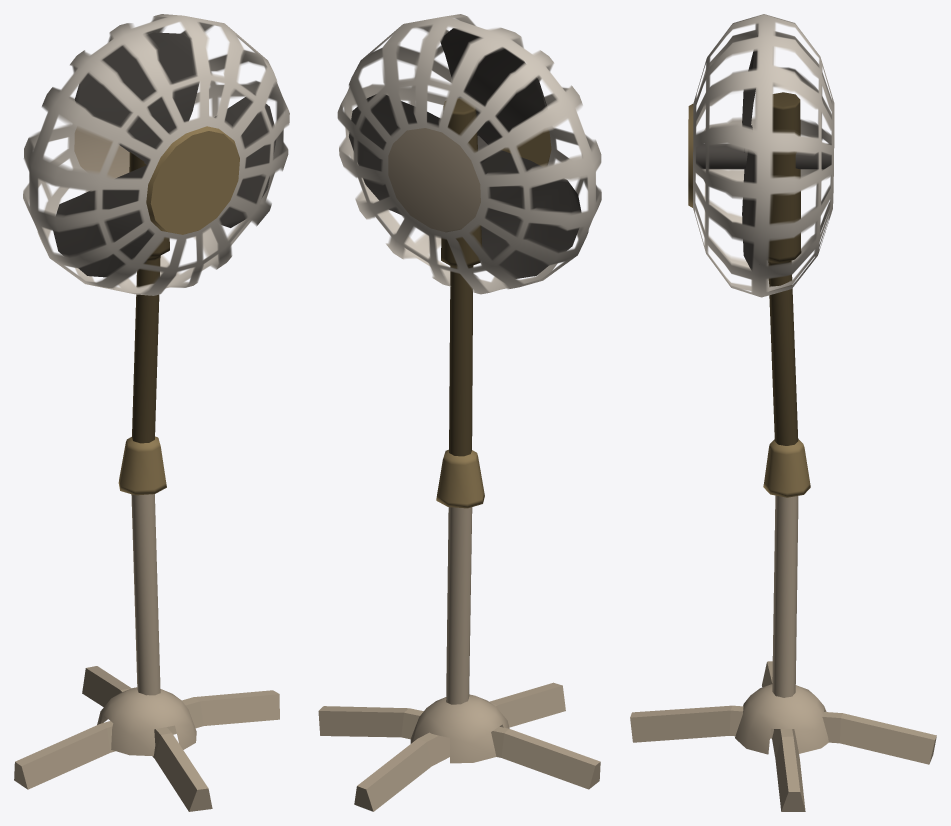
File: fallen_fan.gltf
3 views of the same model, side by side, from view 1: azimuth 30°, elevation 25°; view 2: azimuth 150°, elevation 25°; view 3: azimuth 270°, elevation 25° (orthographic).
Visible parts, largest first — view 1: Sphere.001, Sphere.002, Cylinder.003, Cube.003, Sphere, Cube.002; view 2: Sphere.001, Sphere.002, Cylinder.003, Cube.003, Cube.002, Sphere; view 3: Sphere.001, Cylinder.003, Cube.002, Sphere, Cube.003, Cylinder.005, Sphere.002.
Part boxes in pixels (box(x1,y1,x2,y2)): Sphere.001: box(23, 14, 289, 295); Sphere.002: box(53, 32, 276, 277); Cylinder.003: box(118, 152, 169, 695); Cube.003: box(14, 690, 279, 789); Sphere: box(97, 687, 196, 756); Cube.002: box(82, 666, 212, 811); Sphere.001: box(337, 14, 601, 294); Sphere.002: box(349, 28, 581, 278); Cylinder.003: box(436, 98, 484, 704); Cube.003: box(318, 706, 600, 789); Cube.002: box(354, 682, 565, 811); Sphere: box(410, 694, 509, 763); Sphere.001: box(688, 14, 834, 297); Cylinder.003: box(763, 92, 810, 729); Cube.002: box(630, 705, 936, 764); Sphere: box(735, 684, 828, 754); Cube.003: box(762, 661, 805, 811); Cylinder.005: box(695, 143, 831, 169); Sphere.002: box(742, 31, 758, 270).
Size of the model in its own units: 0.5977 by 1.56 by 0.5987.
2 materials, 1 textured.
